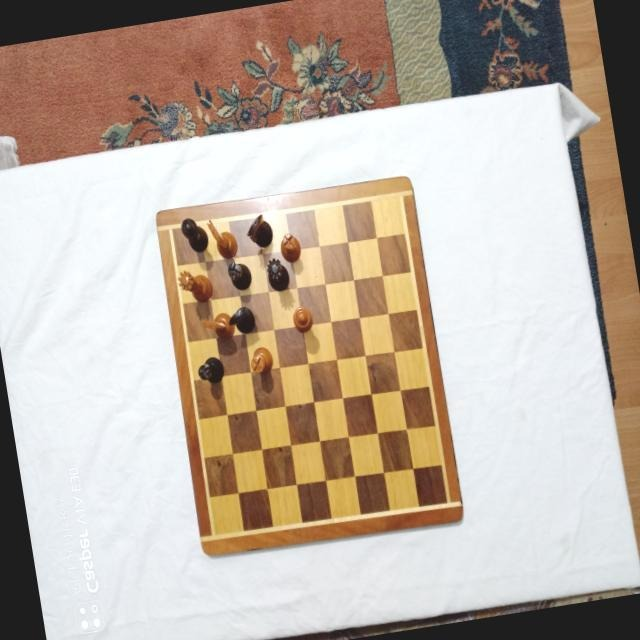black-knight: (244, 211, 275, 250), (226, 304, 257, 336)
black-queen: (265, 256, 291, 292)
black-rook: (196, 355, 227, 385), (226, 259, 254, 292)
white-king: (290, 305, 314, 335)
white-knight: (205, 215, 239, 261), (199, 309, 237, 342)
white-queen: (175, 266, 214, 306)
white-rook: (278, 231, 304, 265), (248, 344, 275, 375)
